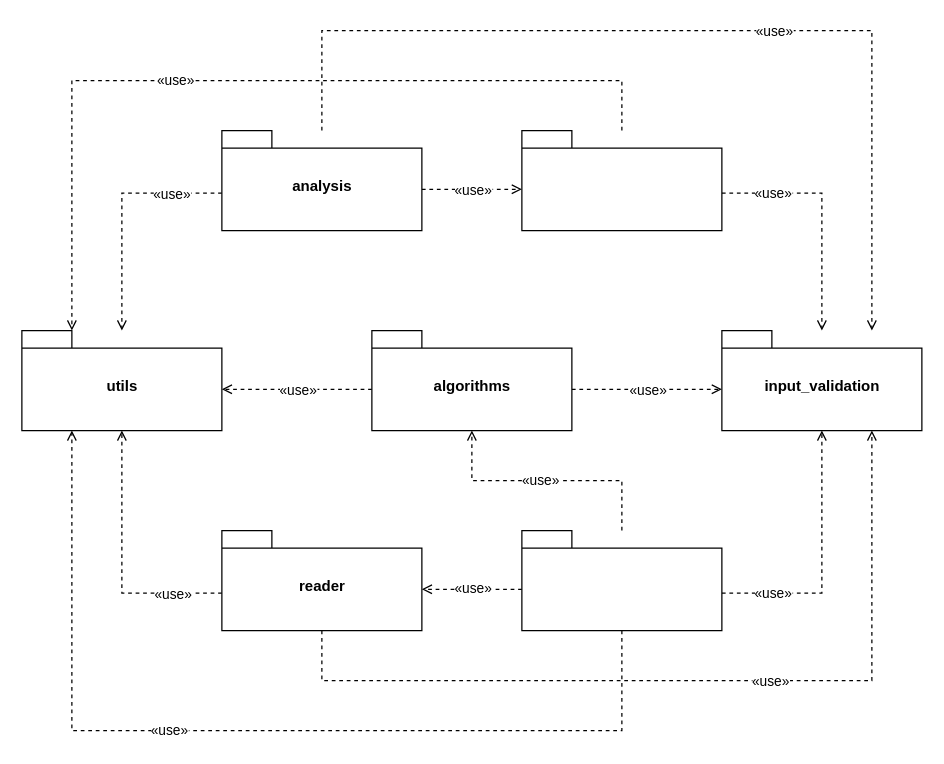
Some shapes in this 944 by 764 pixel diagram are drawn without their labels. The shapes that lost their labels are listed below. From the top down, each one's centre as x and y in pixels, then its label:
At pixel 621 179: "visualizer".
At pixel 621 579: "applications".
